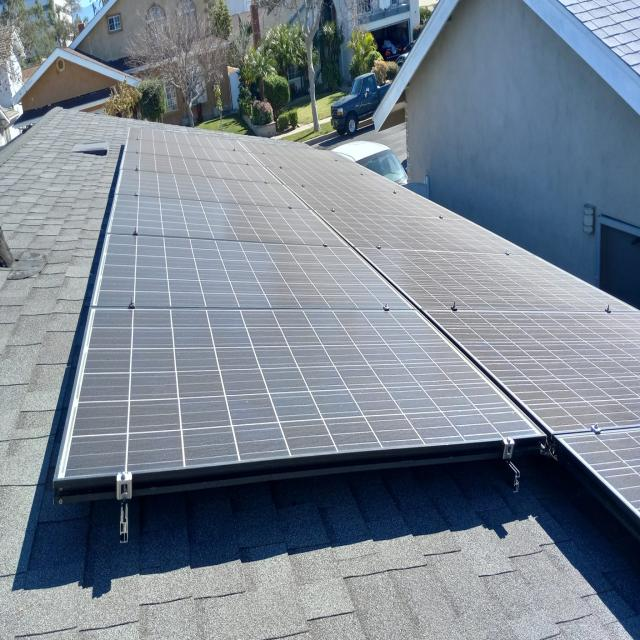dust-solar-panel: (56, 129, 640, 517)
